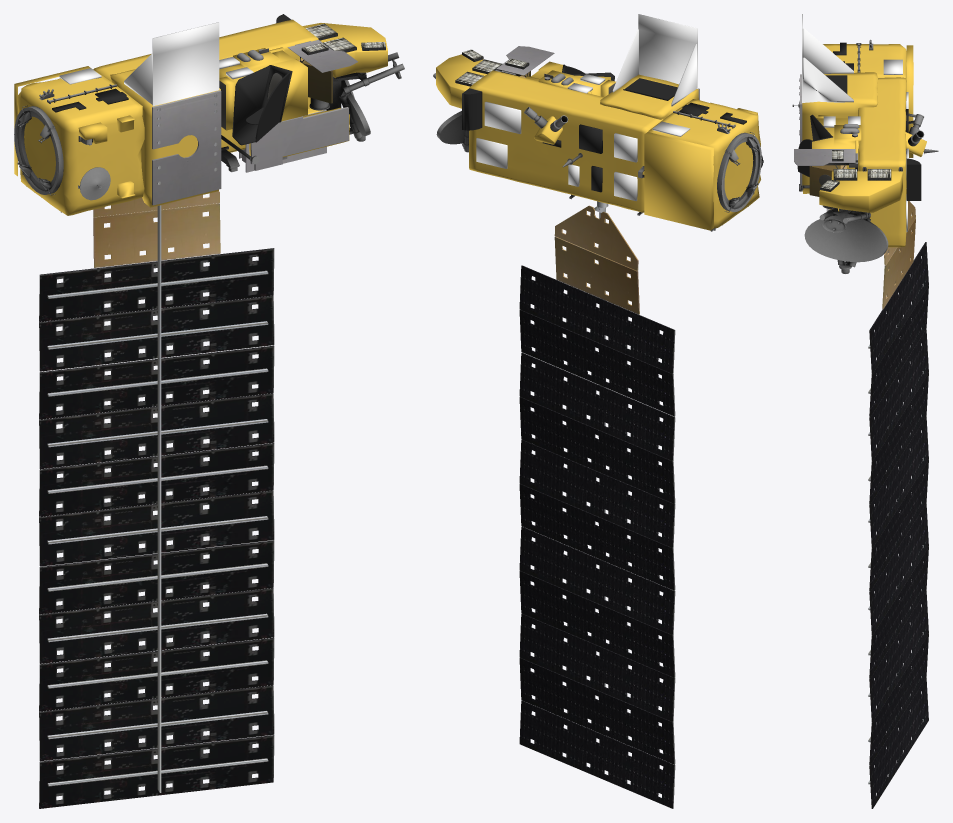
The model's file is Aura.gltf.
3 renders of one model, left to right at view 1: azimuth 30°, elevation 25°; view 2: azimuth 150°, elevation 25°; view 3: azimuth 270°, elevation 25°, orthographic. The views are drawn at different scales.
Visible parts, largest first — view 1: panel, foil_gold, part_01, instruments, foil_silver, black_krinkle; view 2: shiny_panel, foil_gold, panel, foil_silver, instruments, black_krinkle, part_01; view 3: shiny_panel, foil_gold, panel, instruments, foil_silver, part_01, black_krinkle.
Part boxes in pixels (<box>): panel: <box>39,191,274,808</box>; foil_gold: <box>14,19,387,215</box>; part_01: <box>152,23,385,205</box>; instruments: <box>14,41,404,212</box>; foil_silver: <box>59,22,253,106</box>; black_krinkle: <box>52,14,292,145</box>; shiny_panel: <box>519,266,674,808</box>; foil_gold: <box>436,54,760,230</box>; panel: <box>520,201,675,808</box>; foil_silver: <box>476,14,697,201</box>; instruments: <box>433,69,763,231</box>; black_krinkle: <box>462,64,746,192</box>; part_01: <box>455,46,699,100</box>; shiny_panel: <box>870,242,928,808</box>; foil_gold: <box>802,44,926,247</box>; panel: <box>868,201,928,808</box>; instruments: <box>792,39,938,273</box>; foil_silver: <box>802,14,908,231</box>; part_01: <box>794,74,891,211</box>; black_krinkle: <box>797,42,921,200</box>.
Size of the model in its own units: 8.73 by 18.74 by 3.43.
6 materials, 3 textured.
